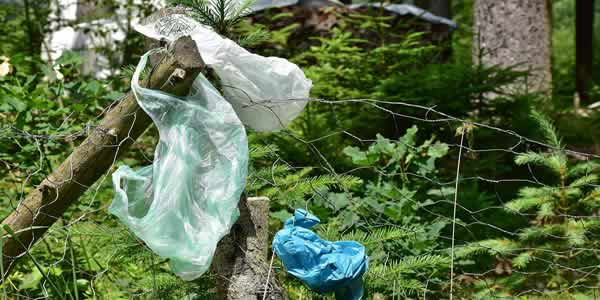plastic_bagwdw: (74, 36, 248, 292), (261, 203, 389, 300)
